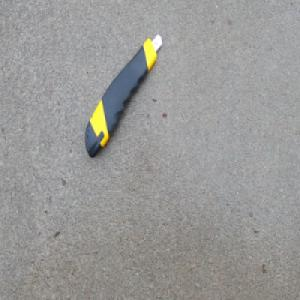Cutter: (85, 31, 163, 159)
